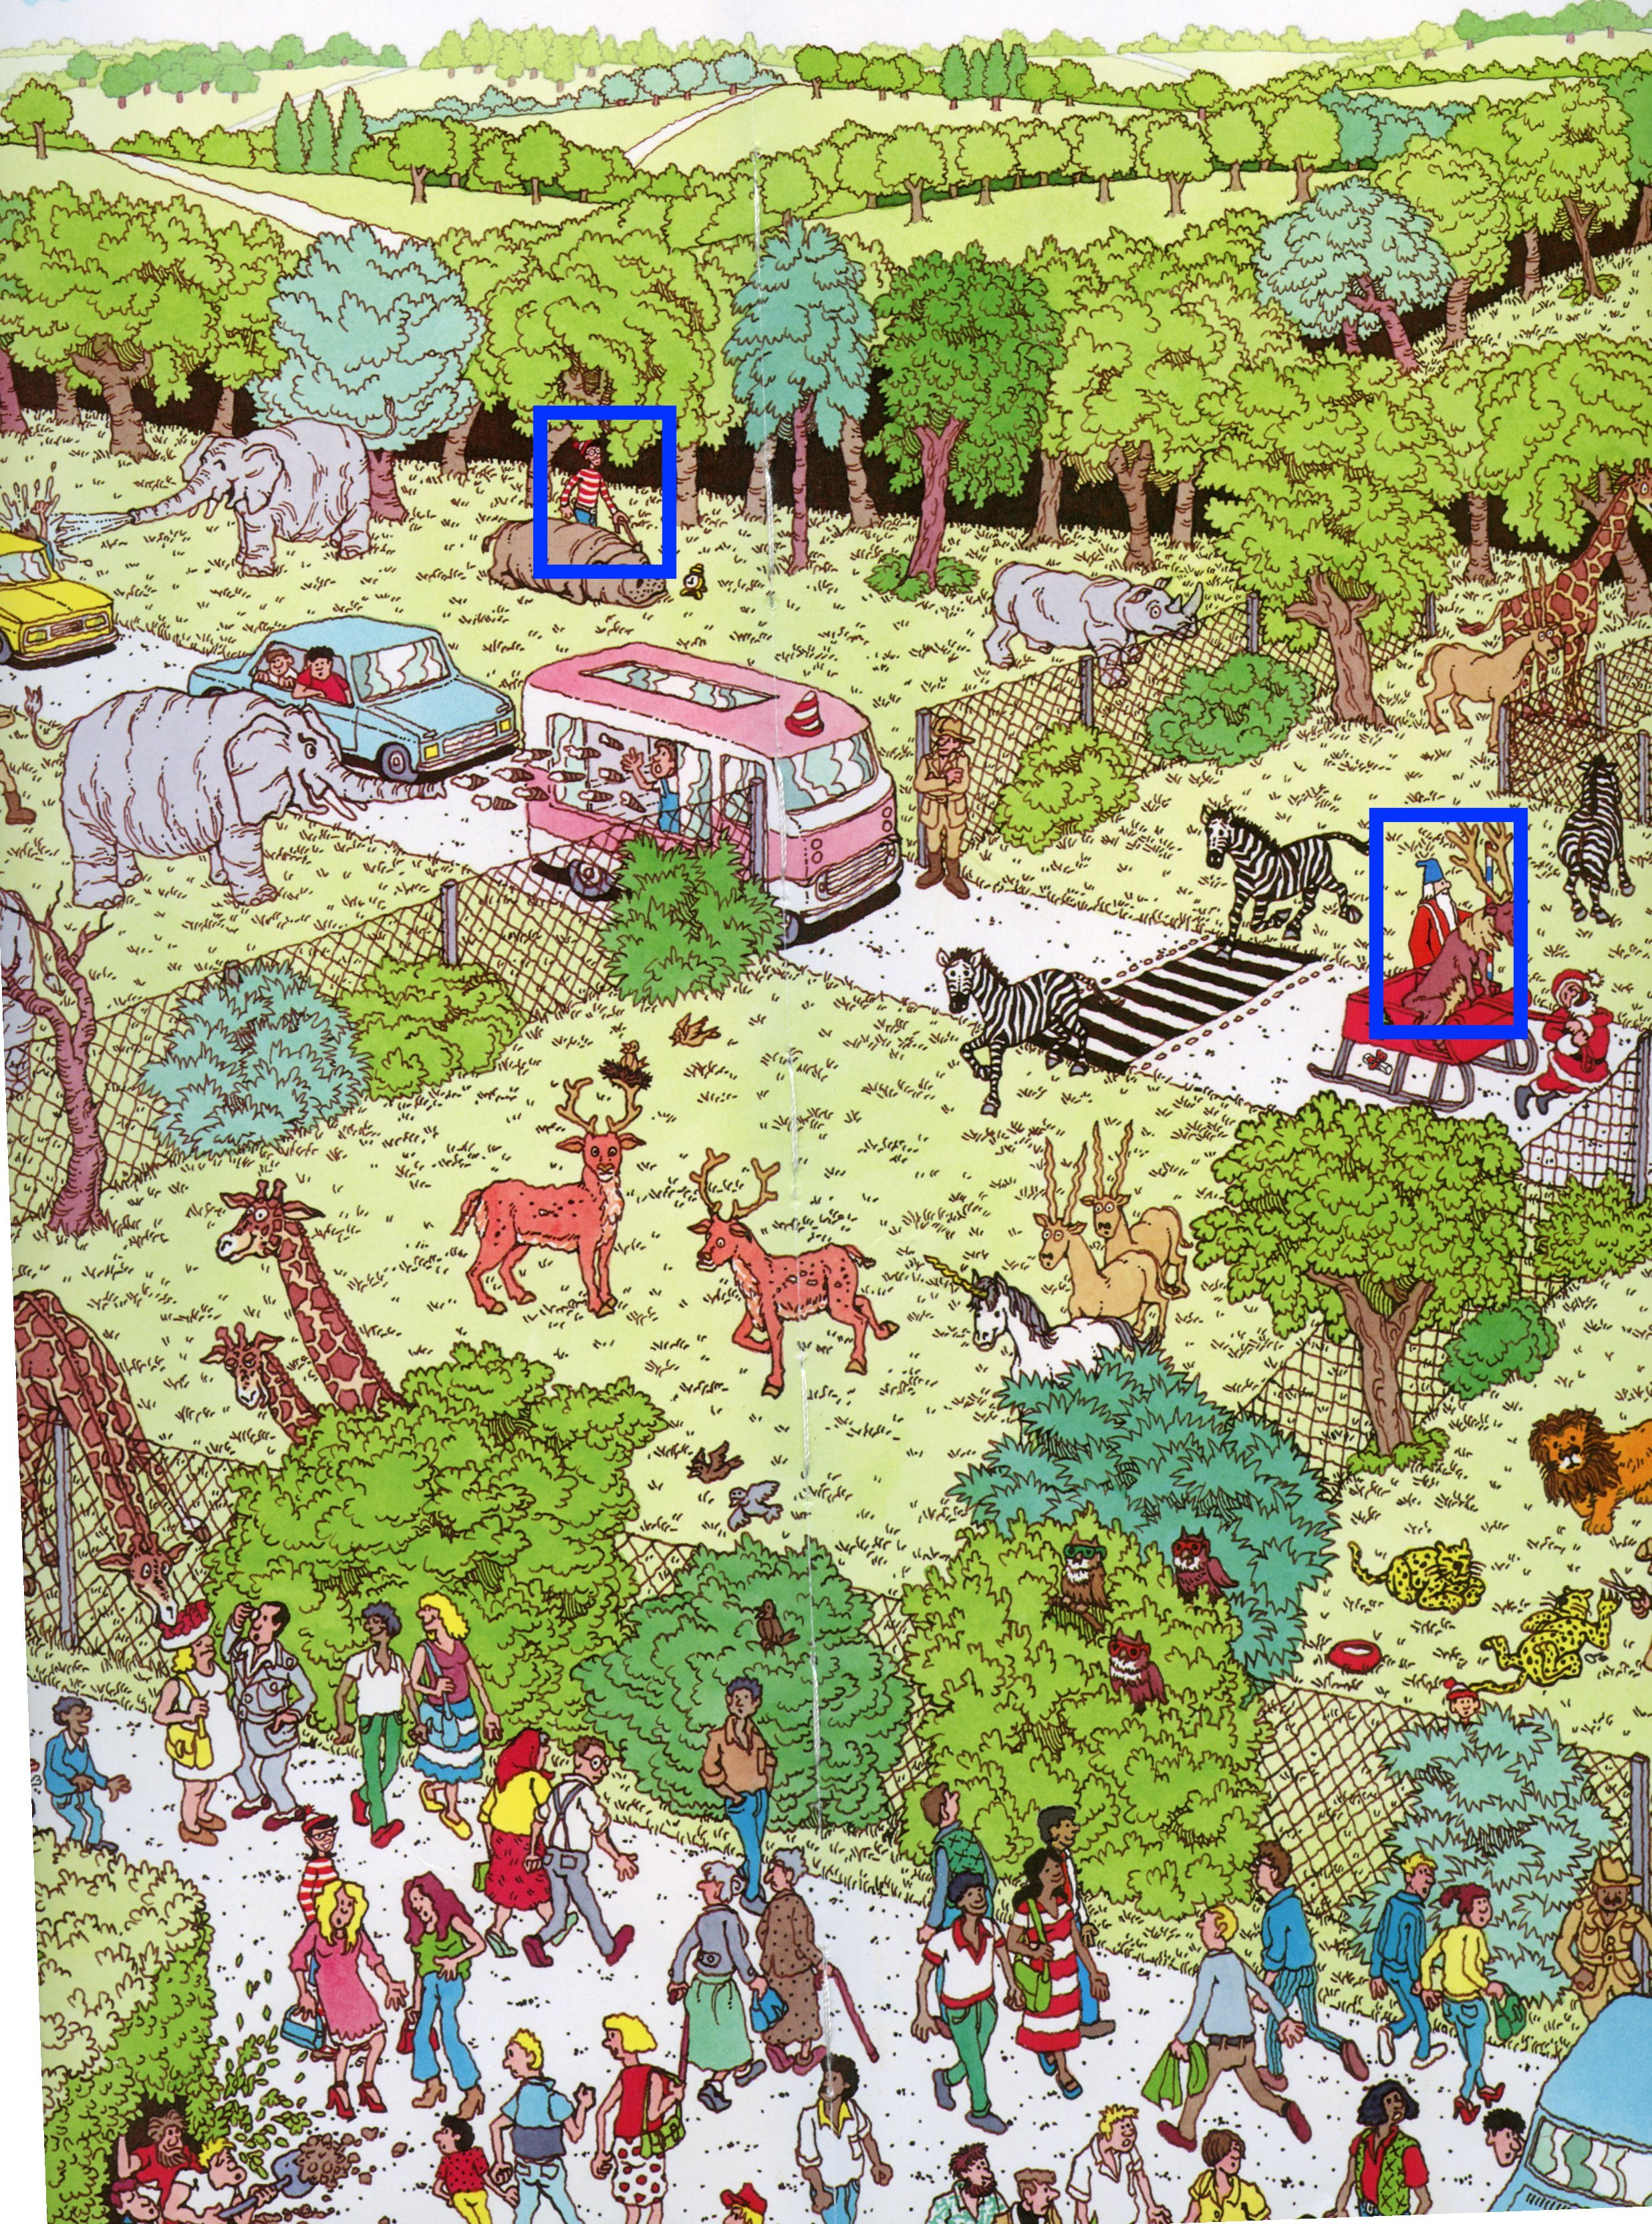waldo: (543, 406, 713, 572)
white beard: (1367, 821, 1541, 1062)
